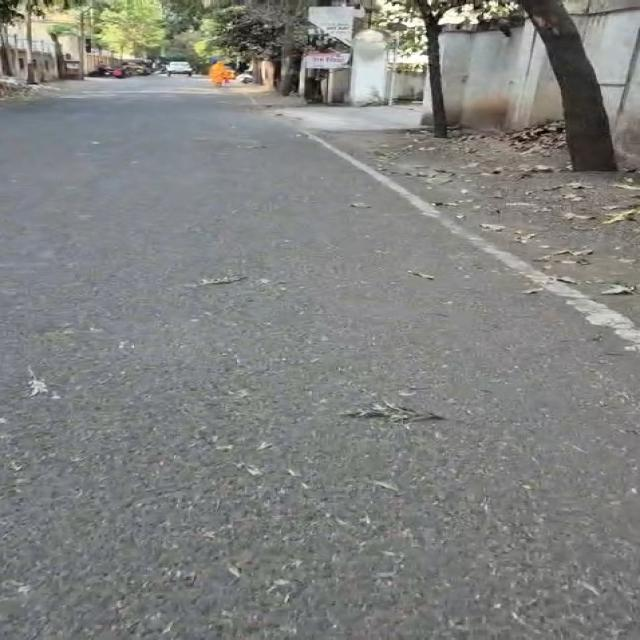obstacle: (519, 0, 617, 171), (424, 12, 448, 137), (279, 52, 301, 95), (26, 0, 36, 84), (50, 33, 65, 79), (0, 24, 13, 76), (262, 60, 275, 91), (252, 57, 262, 85)
